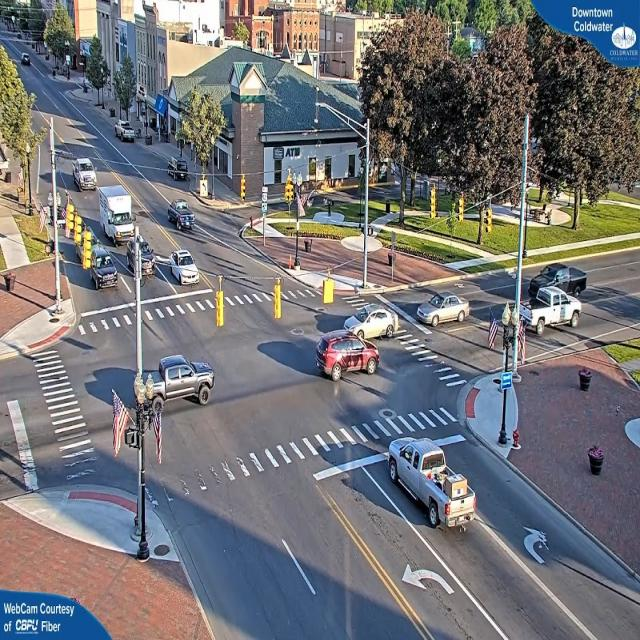car: (144, 346, 217, 412), (319, 179, 346, 196), (348, 184, 357, 193)
